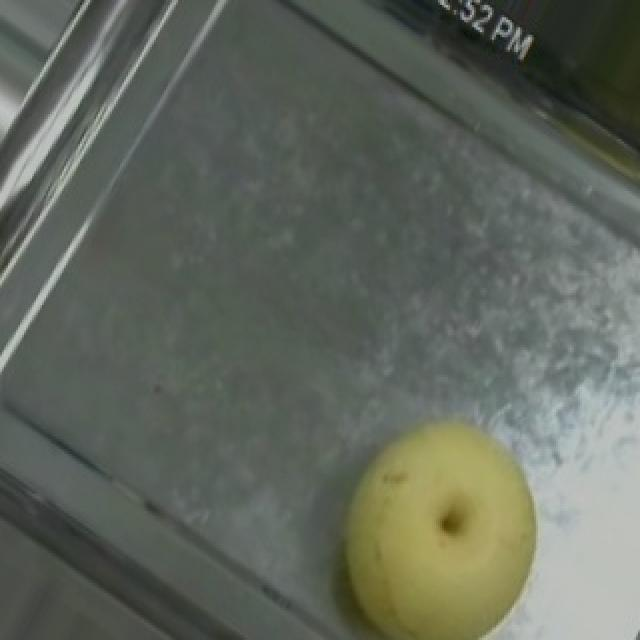Fruit: (292, 382, 562, 640)
